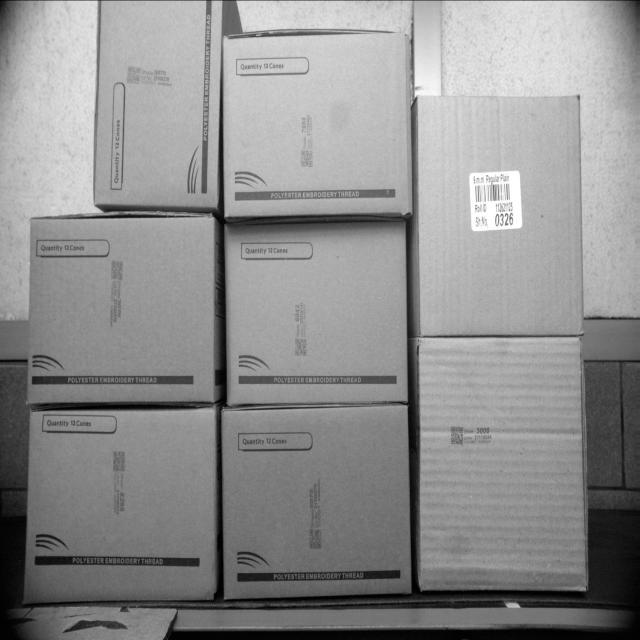box: (418, 341, 588, 589), (417, 94, 583, 334), (24, 404, 221, 600), (224, 408, 416, 602), (221, 29, 413, 216), (29, 218, 216, 404), (224, 222, 406, 402), (91, 0, 220, 210)
